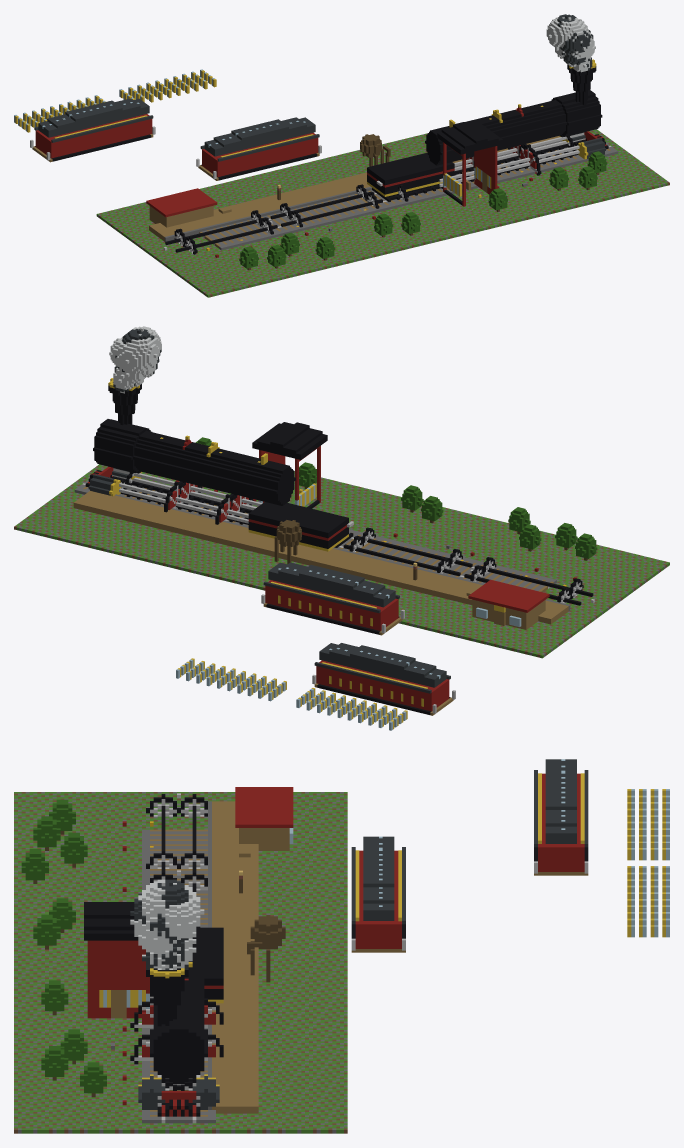
3 views of the same model, one above another, from view 1: azimuth 30°, elevation 25°; view 2: azimuth 150°, elevation 25°; view 3: azimuth 270°, elevation 25° (orthographic). The views are drawn at different scales.
Size of the model in its own units: 206 by 66 by 169.
